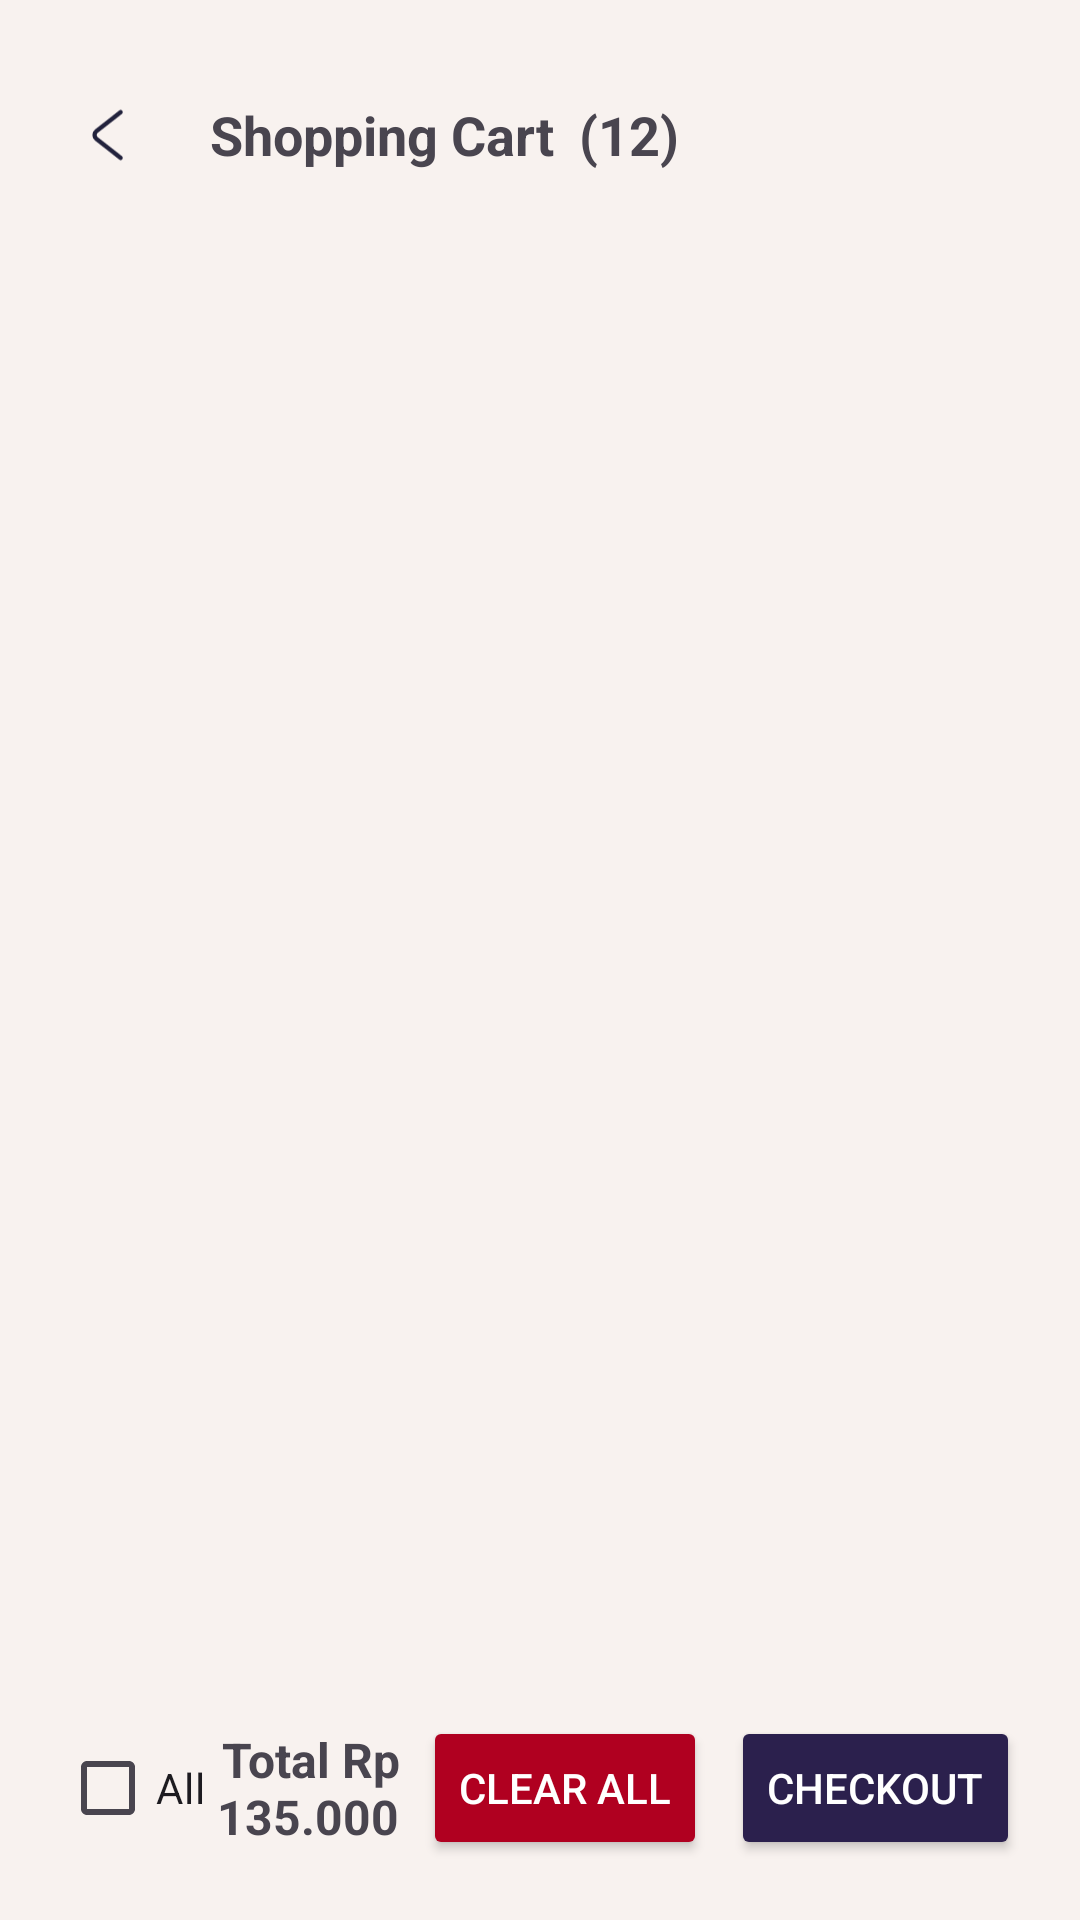

Locate icon controls on the screen. Image size 1080*1920, boxes as (x1, y1, x2, y2).
Back: (92, 109, 123, 161)
